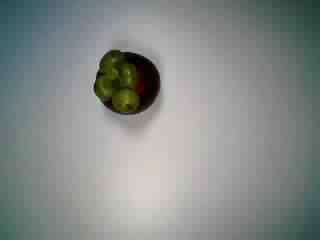mangosteen: (91, 45, 165, 117)
